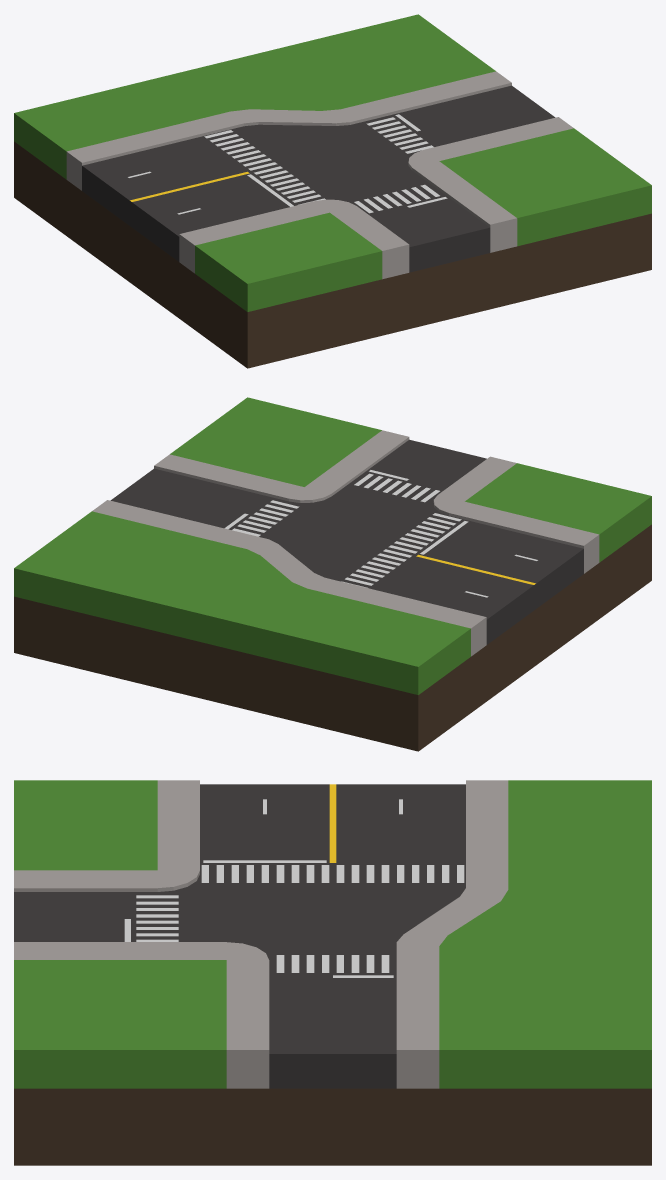
The model's file is tile-road-to-mainroad-intersection-t.glb.
3 renders of one model, top to bottom at view 1: azimuth 30°, elevation 25°; view 2: azimuth 150°, elevation 25°; view 3: azimuth 270°, elevation 25°, orthographic. The views are drawn at different scales.
Visible parts, largest first — view 1: tile-road-to-mainroad-intersection-t; view 2: tile-road-to-mainroad-intersection-t; view 3: tile-road-to-mainroad-intersection-t.
Part boxes in pixels (bbox=[...]): tile-road-to-mainroad-intersection-t: bbox=[14, 14, 651, 368]; tile-road-to-mainroad-intersection-t: bbox=[14, 397, 651, 751]; tile-road-to-mainroad-intersection-t: bbox=[14, 780, 651, 1165].
Size of the model in its own units: 30 by 6 by 30.
Materials: 1 (1 with a texture image).
